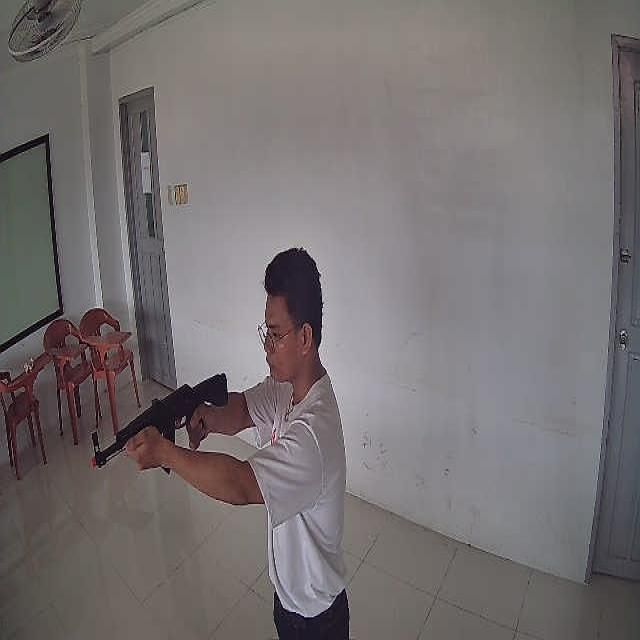rifle: (91, 373, 228, 475)
